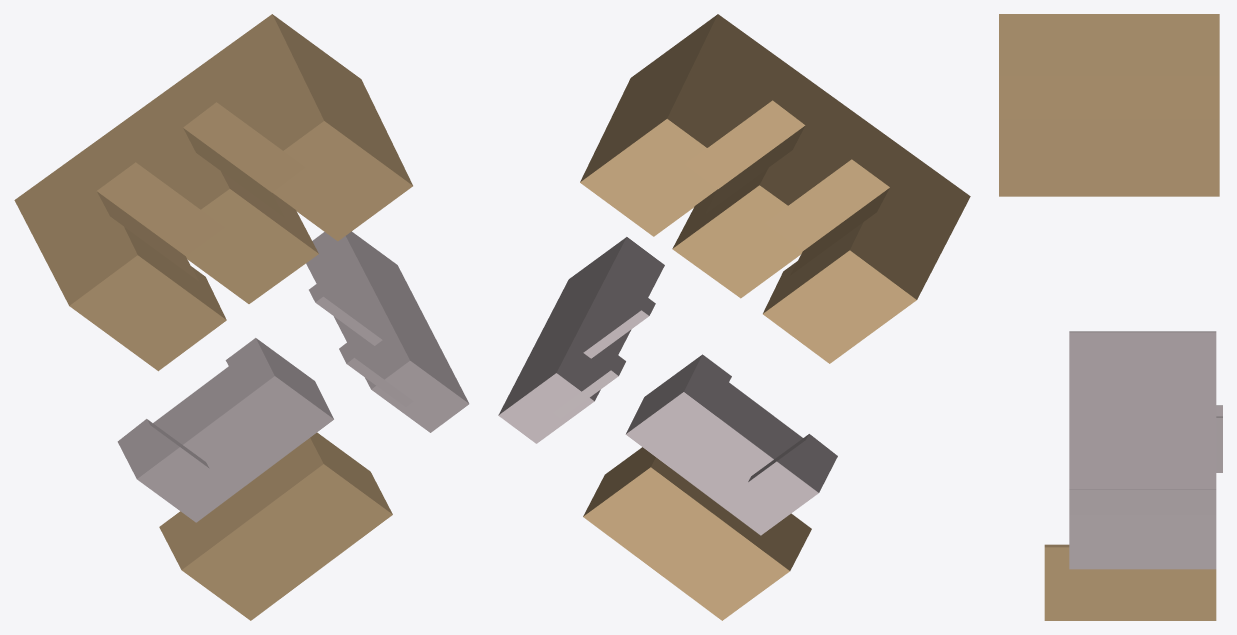
3 views of the same model, side by side, from view 1: azimuth 30°, elevation 25°; view 2: azimuth 150°, elevation 25°; view 3: azimuth 270°, elevation 25° (orthographic). The views are drawn at different scales.
Parts seen in each view (by area): view 1: 0_1_0_2_2_1_1_0; view 2: 0_1_0_2_2_1_1_0; view 3: 0_1_0_2_2_1_1_0.
Boxes of the visible parts, x1,y1,x2,y2 form: 0_1_0_2_2_1_1_0: (14,14,469,620); 0_1_0_2_2_1_1_0: (498,14,970,620); 0_1_0_2_2_1_1_0: (999,14,1222,620).
Bounding box in the file's own units: 69 × 89.06 × 27.4.
